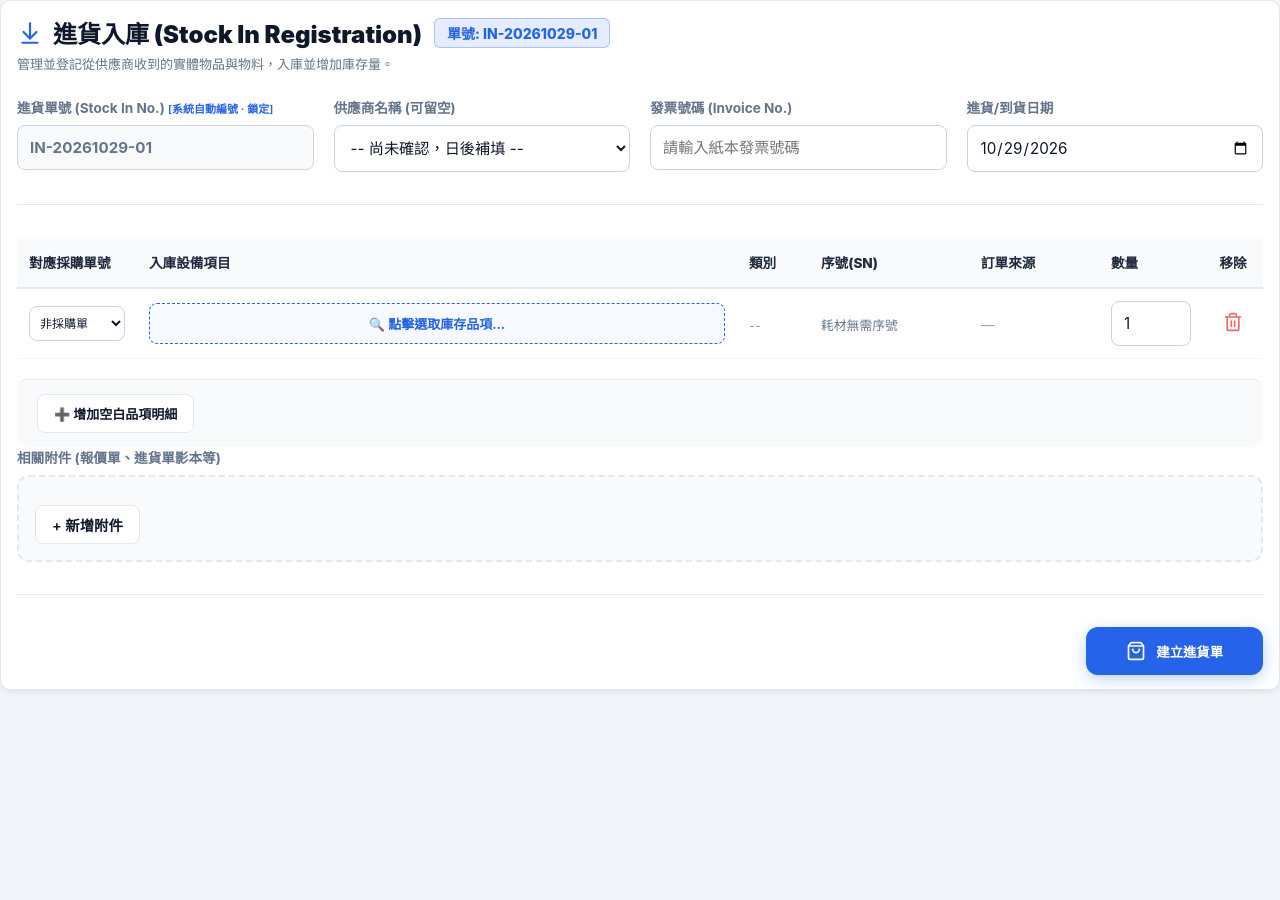
Test case: 進貨單：快速建檔品項 › 沒填規格時明講「未填規格」，不留白
Click the button with test id "open-item-select-btn-1".
click(437, 324)  # box [149, 303, 725, 344]
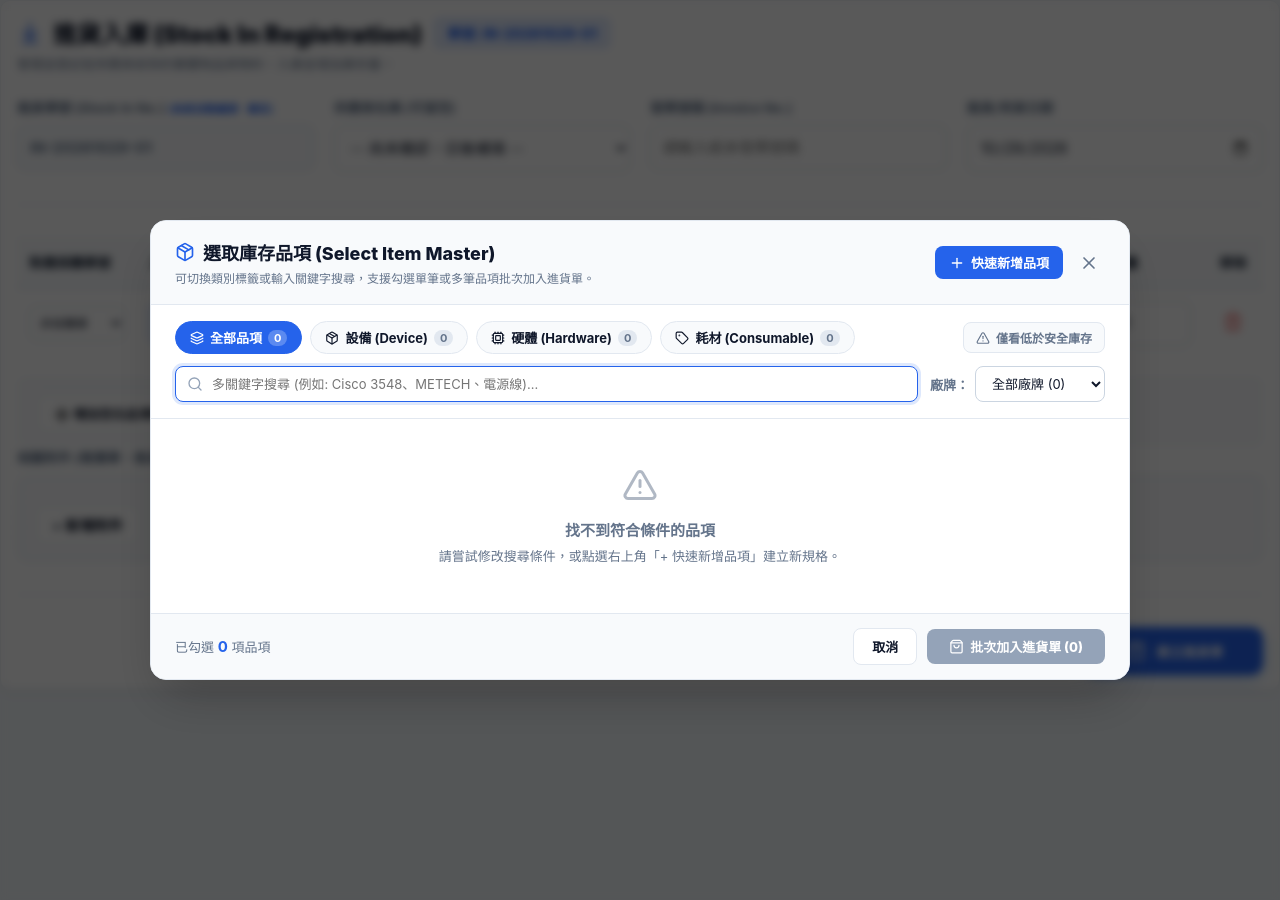
Click the button "快速新增品項".
click(999, 262)  # box [935, 246, 1063, 279]
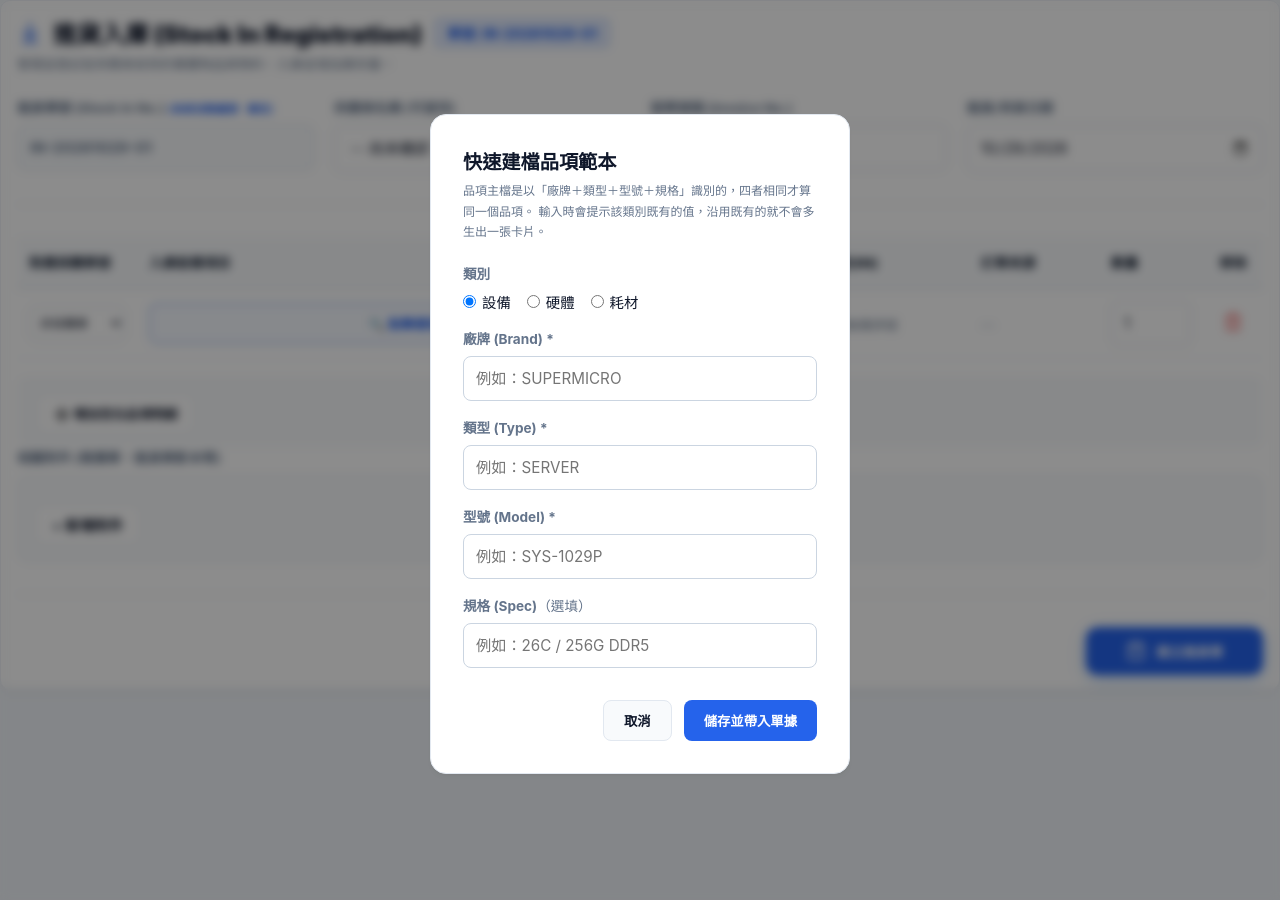
Type "SUPERMICRO" into the field with placeholder "例如：SUPERMICRO".
click(640, 378); type("SUPERMICRO")  # box [463, 356, 817, 401]
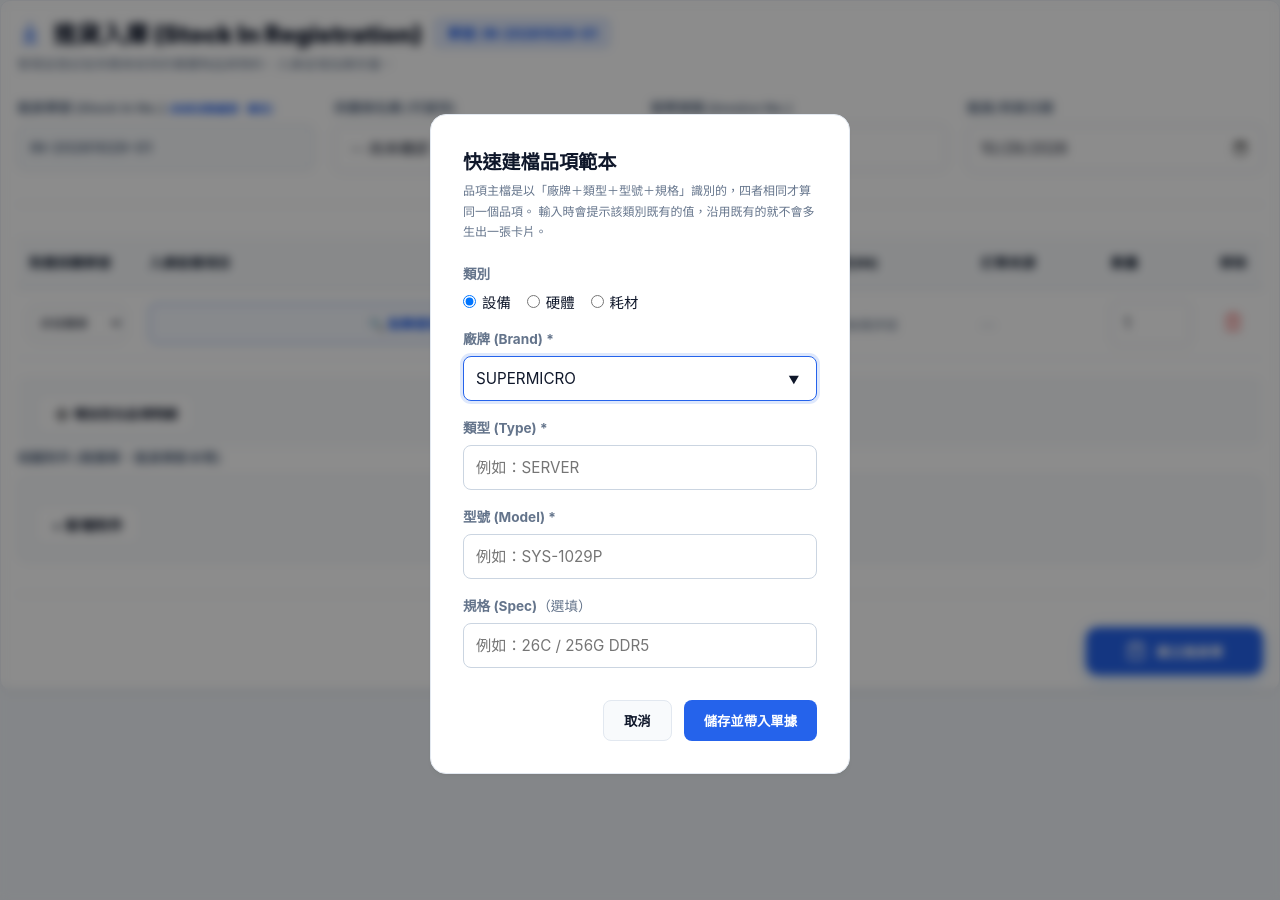
Type "SERVER" into the field with placeholder "例如：SERVER".
click(640, 467); type("SERVER")  # box [463, 445, 817, 490]
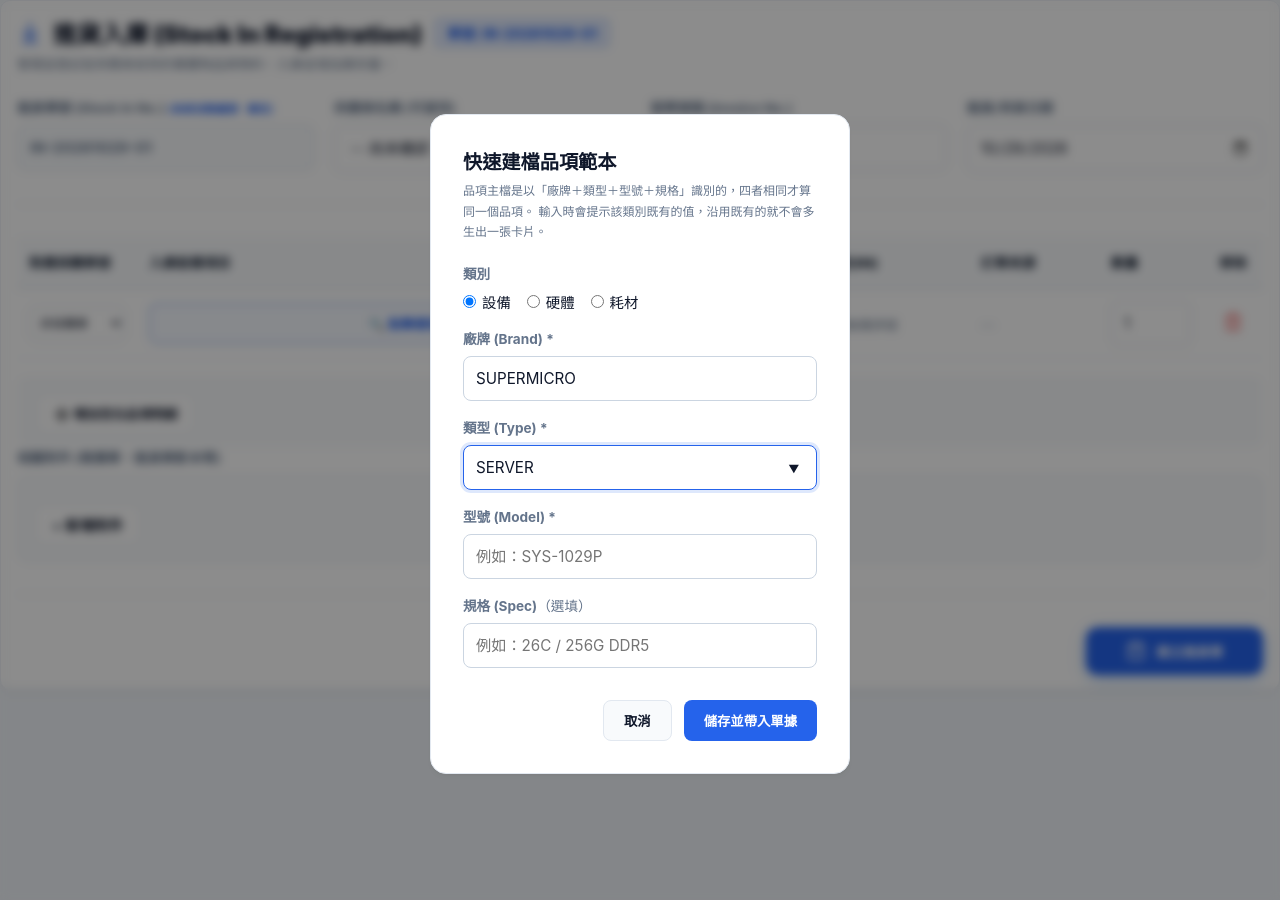
Type "SYS-1029P" into the field with placeholder "例如：SYS-1029P".
click(640, 556); type("SYS-1029P")  # box [463, 534, 817, 579]
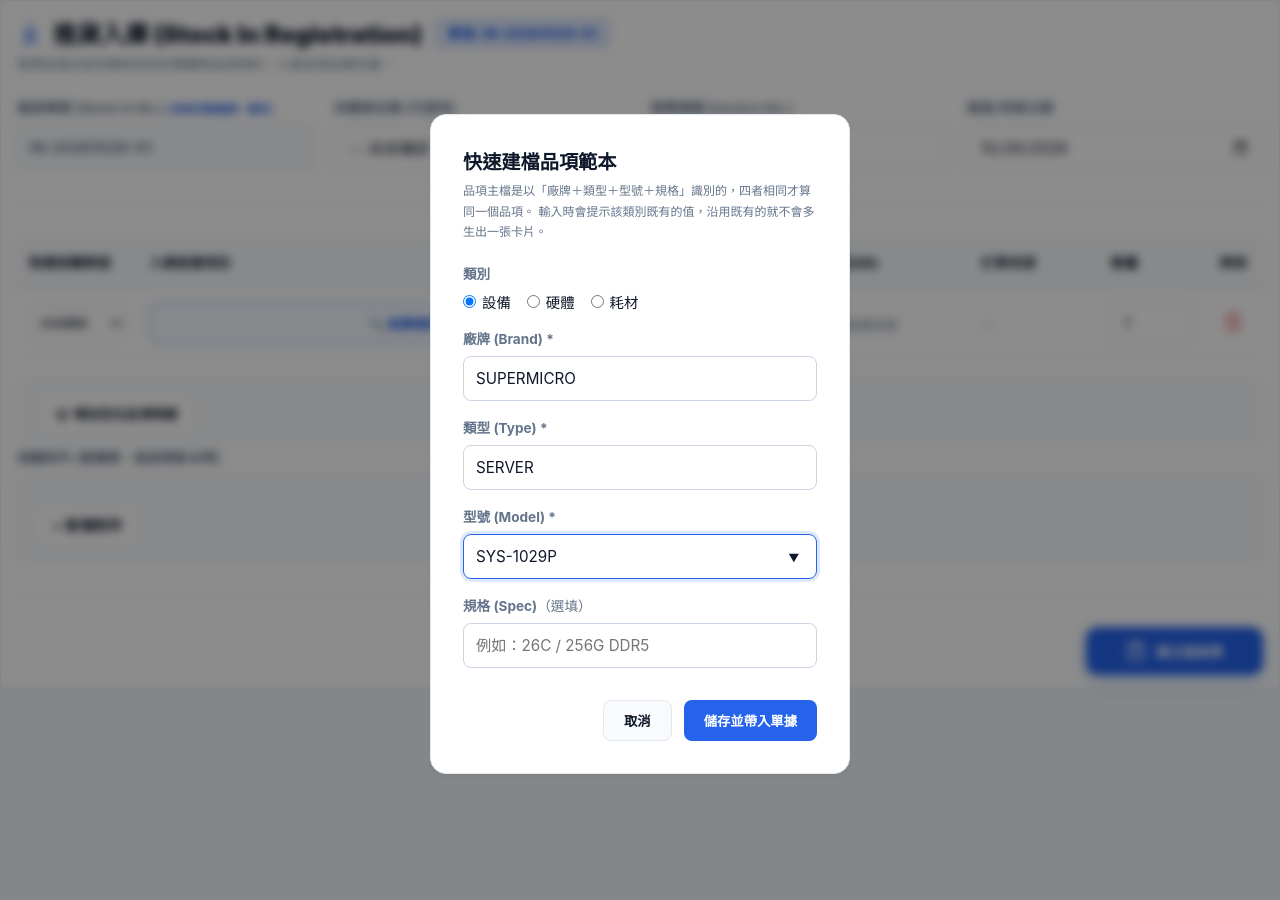
Click the button "儲存並帶入單據".
click(750, 720)  # box [684, 700, 817, 741]
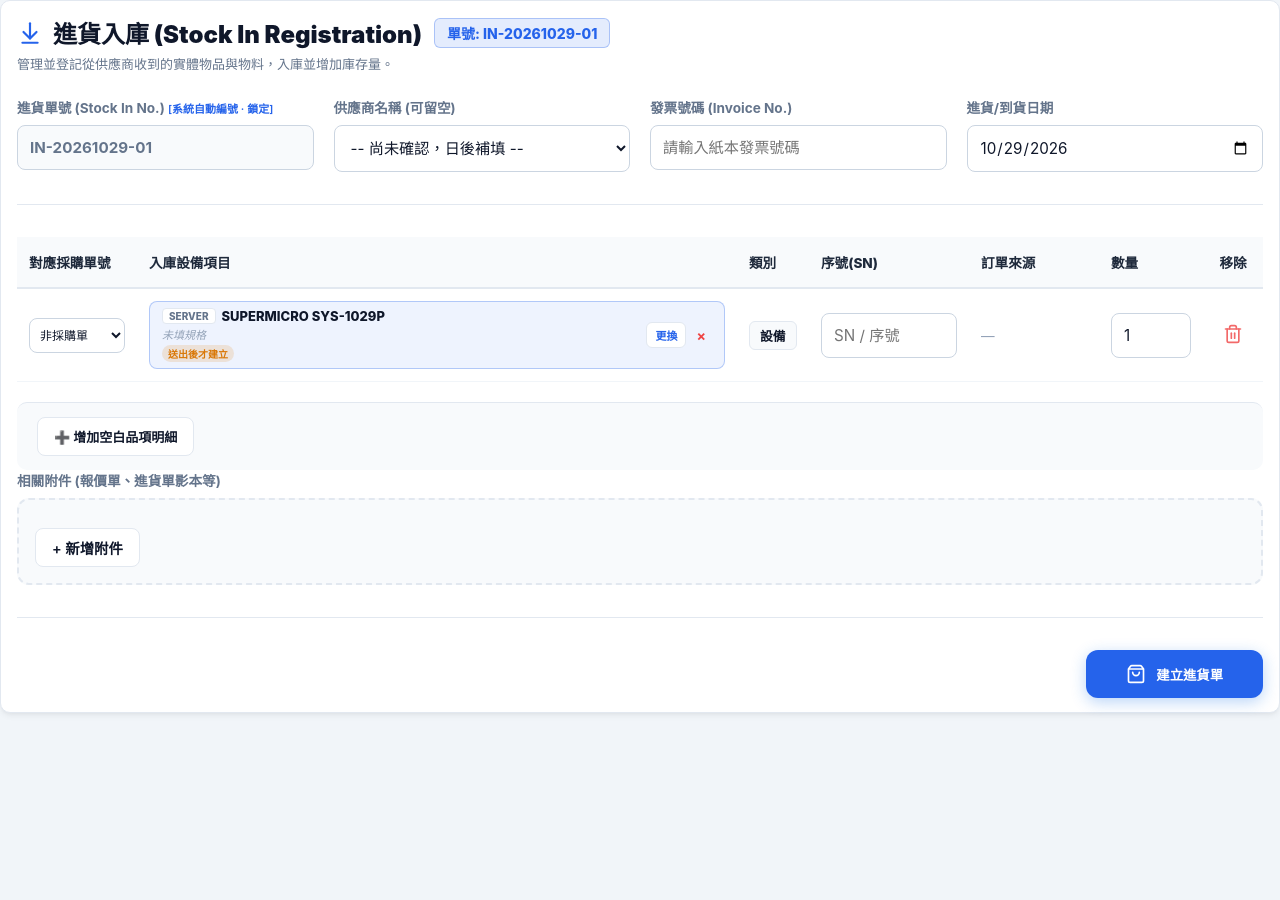
Check: the text "未填規格" is shown, box [162, 328, 206, 342]
